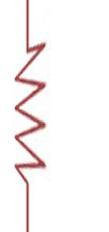resistor: (6, 31, 63, 181)
